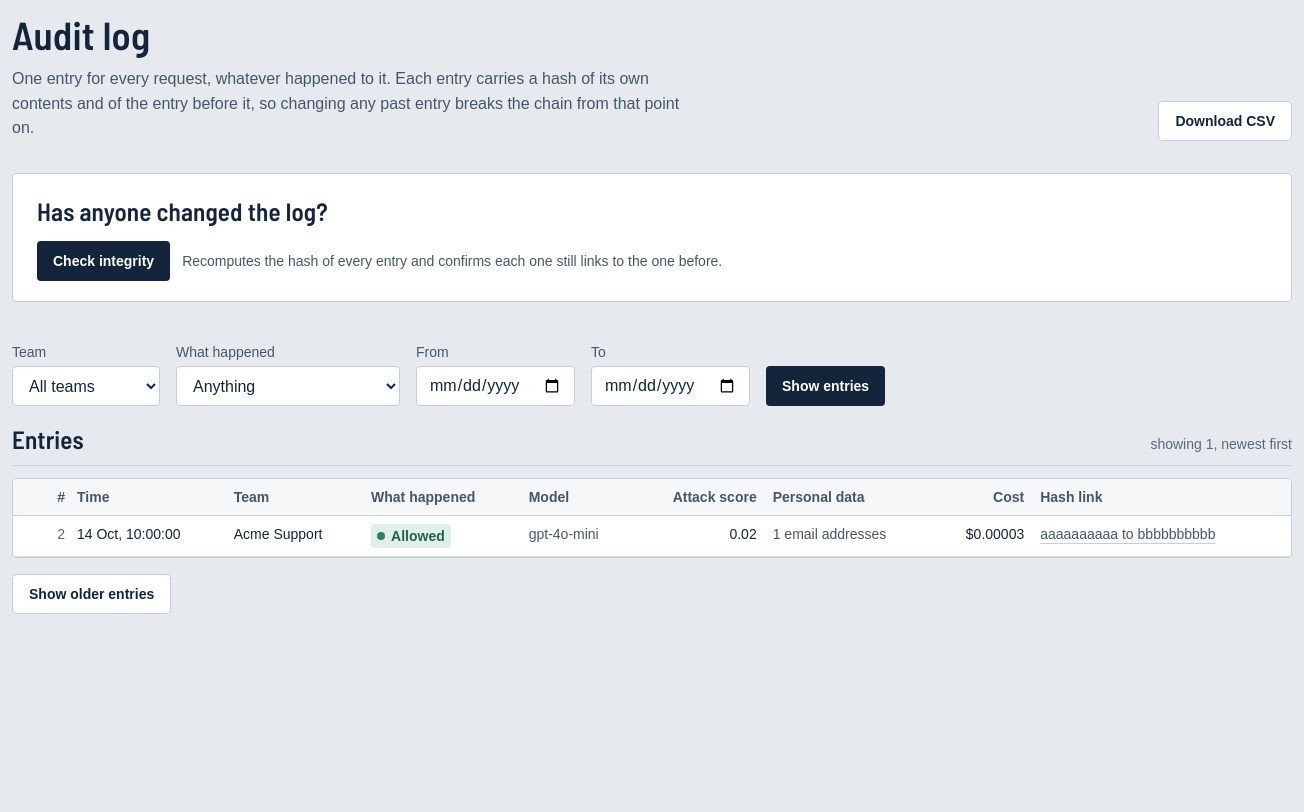
it: Audit log › pages through older entries
This screenshot has width=1304, height=812.
Click the button "Show older entries" at (92, 594), box [12, 574, 171, 614]
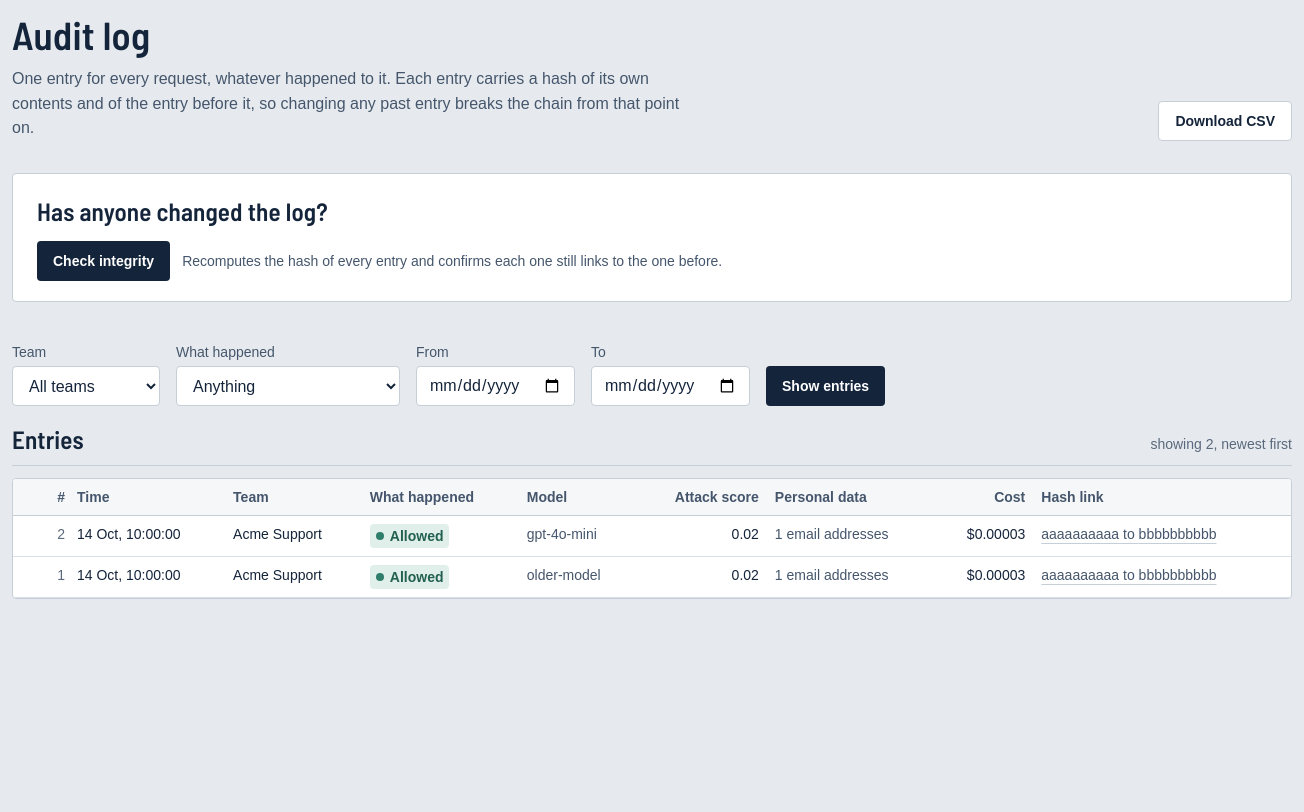
Result: the text "older-model" is shown at [527, 557, 644, 598]
Result: the button "Show older entries" is gone
